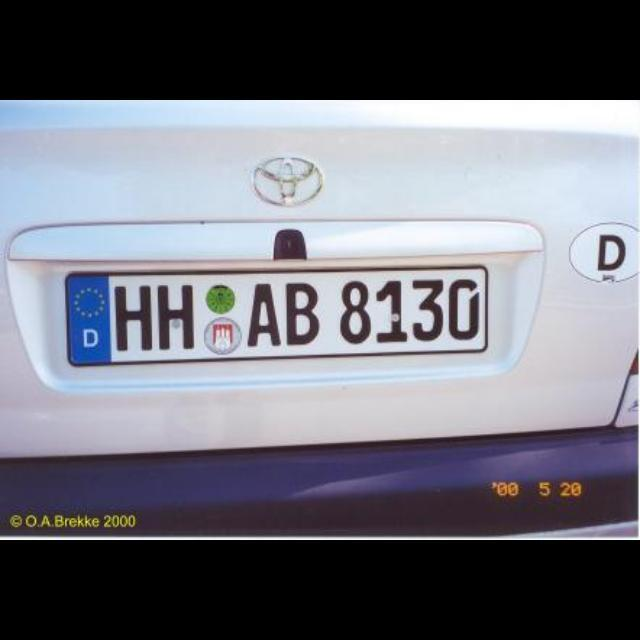license-plates: (65, 268, 489, 366)
